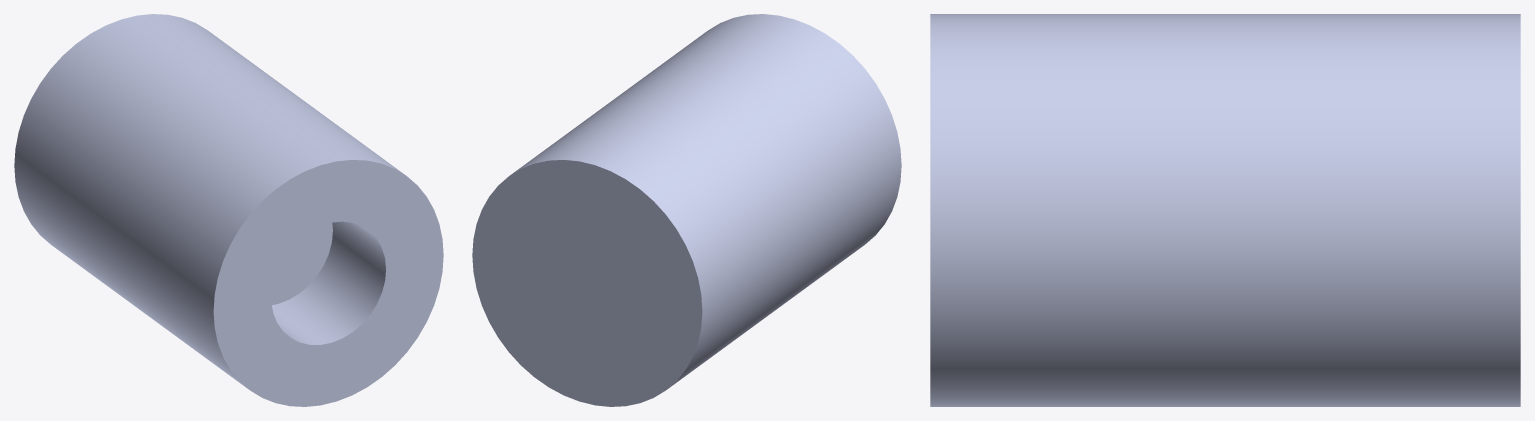
Rendered from Intake_Valve_Bucket.glb.
3 views of the same model, side by side, from view 1: azimuth 30°, elevation 25°; view 2: azimuth 150°, elevation 25°; view 3: azimuth 270°, elevation 25° (orthographic). The views are drawn at different scales.
Parts seen in each view (by area): view 1: Intake Valve Bucket; view 2: Intake Valve Bucket; view 3: Intake Valve Bucket.
Part boxes in pixels (box(x1,y1,x2,y2)): Intake Valve Bucket: box(14, 14, 443, 406); Intake Valve Bucket: box(472, 14, 901, 406); Intake Valve Bucket: box(930, 14, 1520, 406).
Size of the model in its own units: 0.01 by 0.00998 by 0.015.
